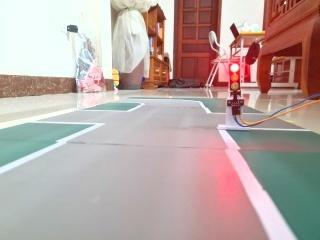red: (218, 50, 247, 106)
